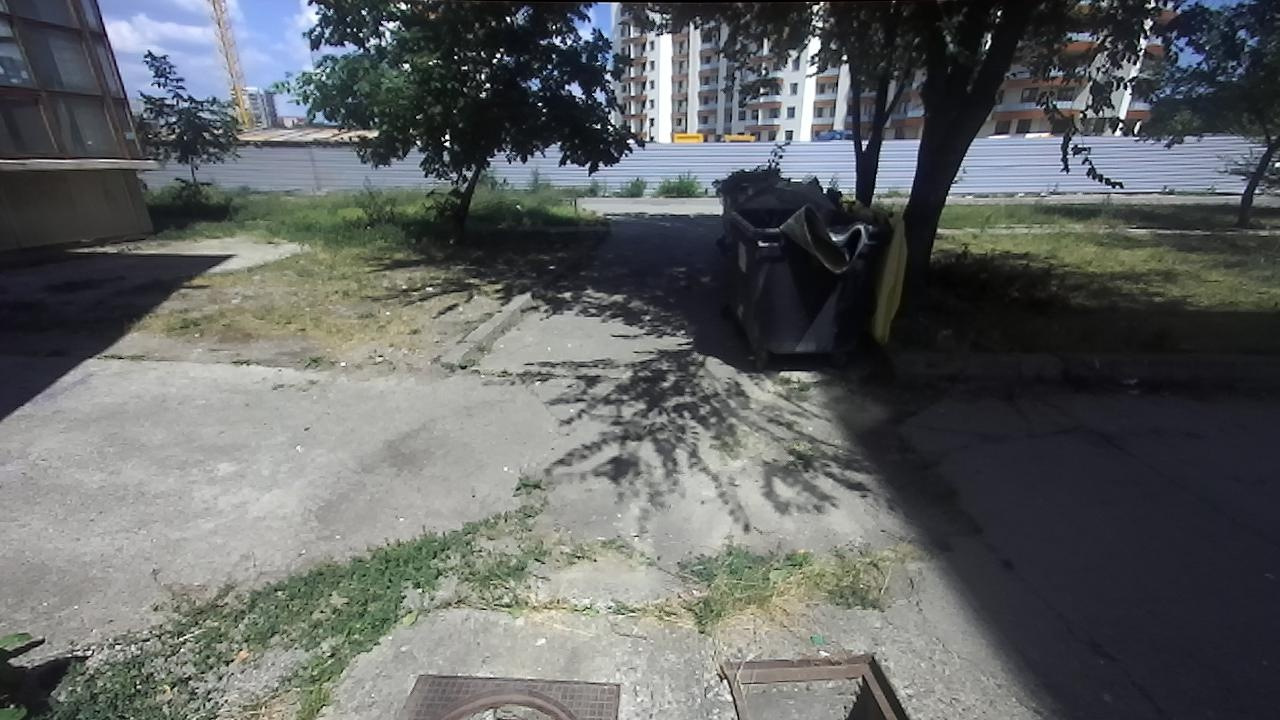drain: (716, 649, 920, 718), (422, 685, 582, 718)
